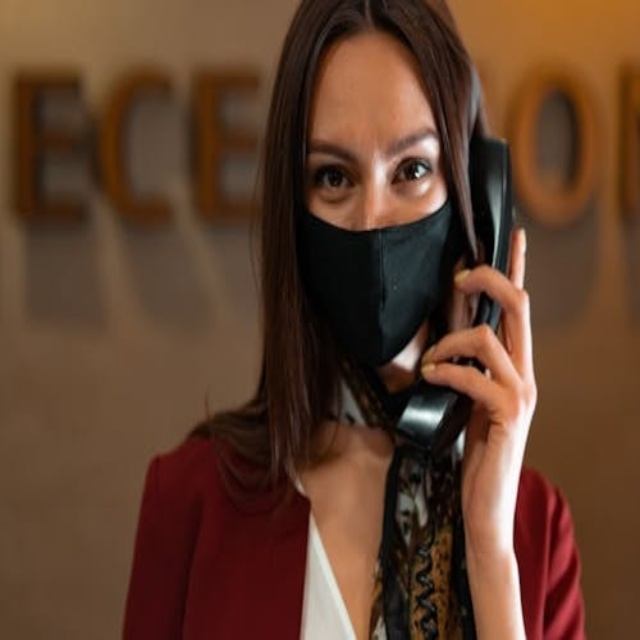Mascara: (296, 189, 457, 371)
Sin_gafas: (313, 162, 354, 193), (393, 156, 433, 185)
Sin_guantes: (412, 217, 554, 563)
